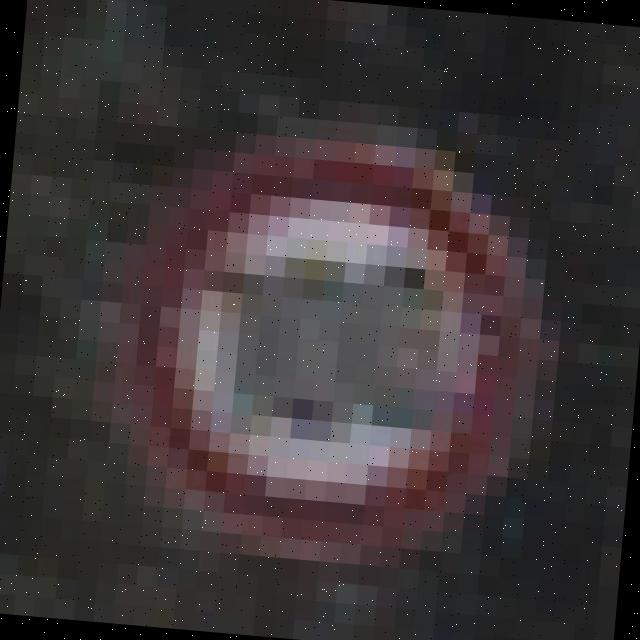Ograniczenie predkosci do 100: (104, 126, 553, 578)
